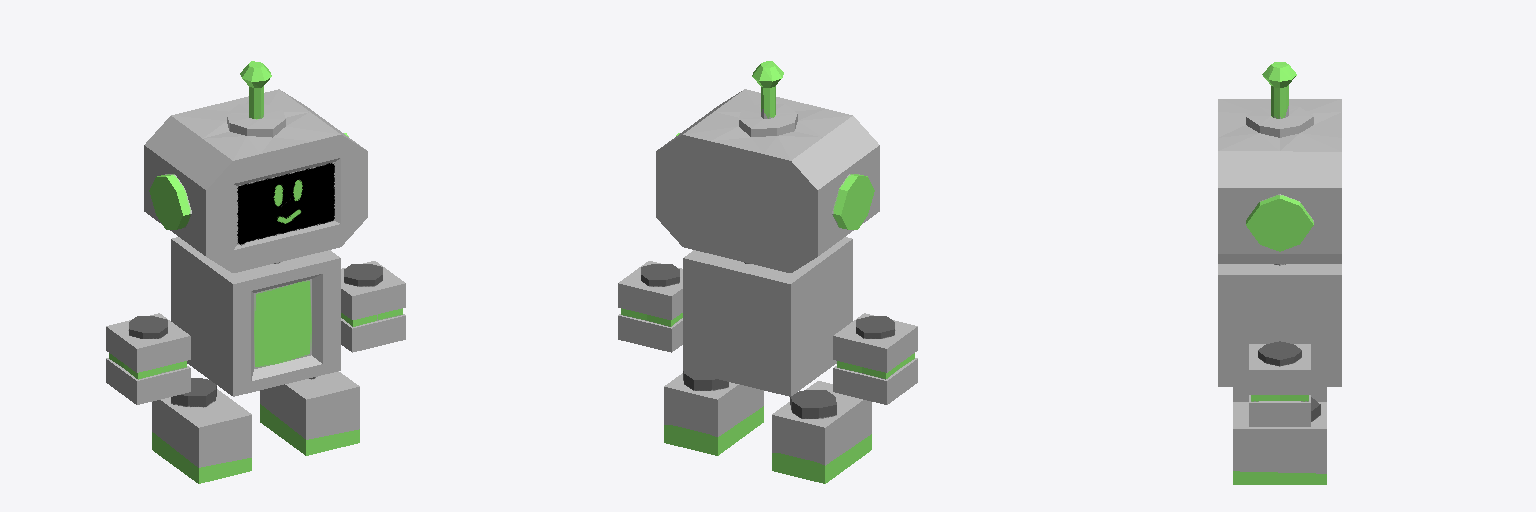
3 renders of one model, left to right at view 1: azimuth 30°, elevation 25°; view 2: azimuth 150°, elevation 25°; view 3: azimuth 270°, elevation 25°, orthographic.
Visible parts, largest first — view 1: P_Head, P_Body, P_Leg_L, P_Leg_R, P_Hand_R, P_Hand_L; view 2: P_Head, P_Body, P_Leg_L, P_Leg_R, P_Hand_R, P_Hand_L; view 3: P_Head, P_Body, P_Leg_R, P_Hand_L.
Boxes of the visible parts, x1=… form: P_Head: x1=144, y1=61, x2=367, y2=272; P_Body: x1=171, y1=237, x2=340, y2=396; P_Leg_L: x1=152, y1=378, x2=251, y2=483; P_Leg_R: x1=260, y1=371, x2=359, y2=455; P_Hand_R: x1=106, y1=313, x2=190, y2=404; P_Hand_L: x1=341, y1=261, x2=405, y2=352; P_Head: x1=656, y1=61, x2=879, y2=272; P_Body: x1=683, y1=237, x2=852, y2=396; P_Leg_L: x1=772, y1=381, x2=871, y2=483; P_Leg_R: x1=664, y1=371, x2=763, y2=455; P_Hand_R: x1=833, y1=313, x2=917, y2=404; P_Hand_L: x1=618, y1=261, x2=682, y2=352; P_Head: x1=1218, y1=62, x2=1341, y2=263; P_Body: x1=1218, y1=264, x2=1341, y2=386; P_Leg_R: x1=1233, y1=397, x2=1326, y2=484; P_Hand_L: x1=1249, y1=341, x2=1310, y2=426.
Bounding box in the file's own units: 1.63 × 2.21 × 0.6511.
1 materials, 1 textured.